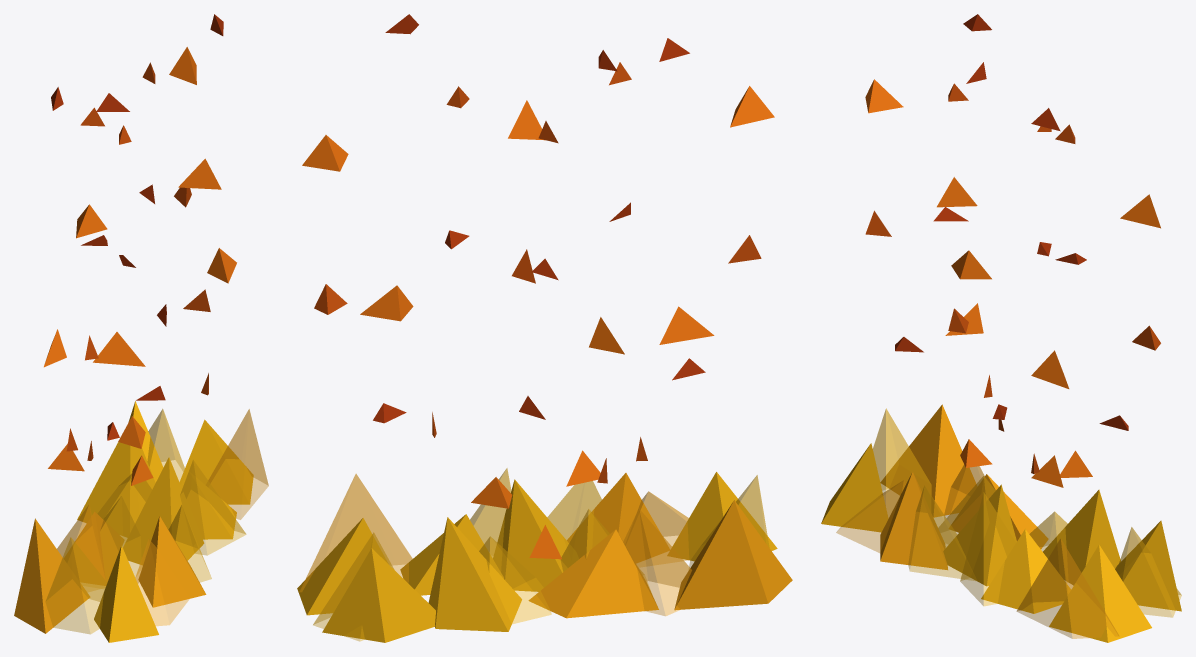
File: model_loc_716_5.obj
The picture shows the model from 3 angles, left to right: view 1: azimuth 30°, elevation 25°; view 2: azimuth 150°, elevation 25°; view 3: azimuth 270°, elevation 25°; orthographic projection. The views are drawn at different scales.
Parts seen in each view (by area): view 1: 2266; view 2: 2266; view 3: 2266.
Boxes of the visible parts, x1,y1,x2,y2 form: 2266: (14,14,268,642); 2266: (297,14,792,642); 2266: (821,14,1181,642).
Size of the model in its own units: 128 by 187 by 122.
